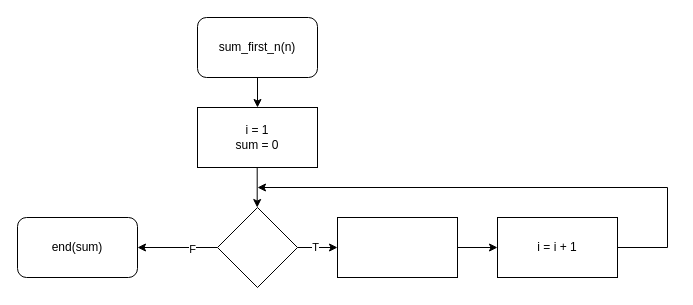
Some shapes in this 693 by 305 pixel diagram are drawn without their labels. The centre of each missing label's shape, as x and y in pixels:
"i < n" belongs at pixel 257 247.
"sum = sum + i" belongs at pixel 397 247.
